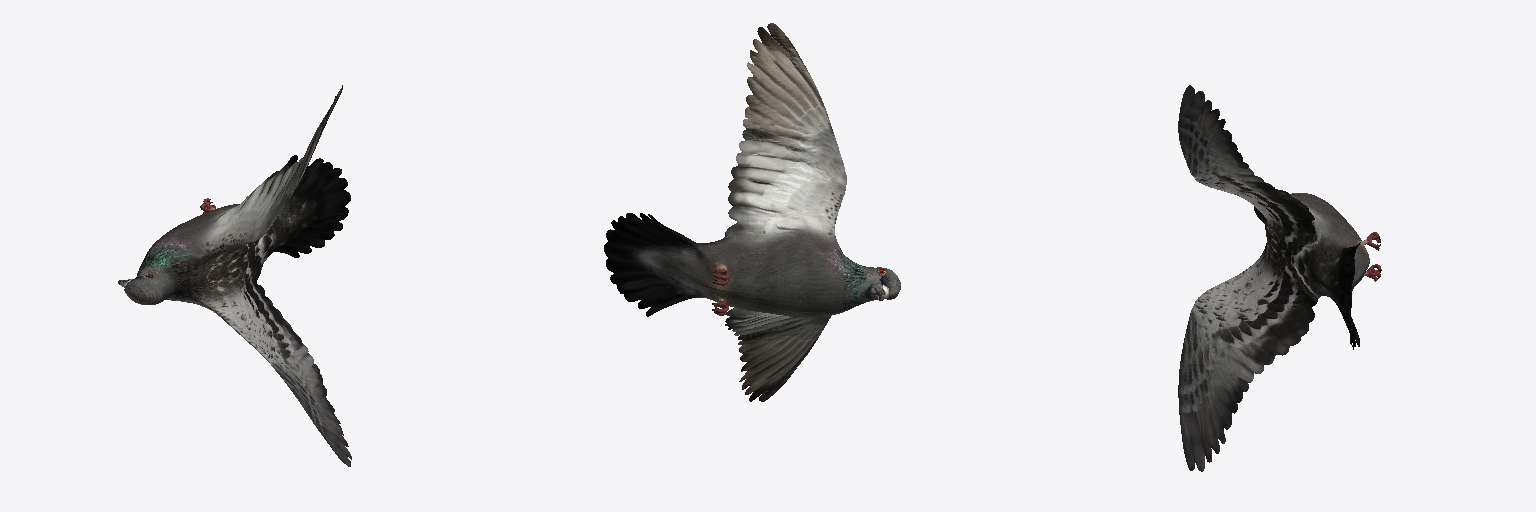
3 renders of one model, left to right at view 1: azimuth 30°, elevation 25°; view 2: azimuth 150°, elevation 25°; view 3: azimuth 270°, elevation 25°, orthographic.
Parts seen in each view (by area): view 1: bird; view 2: bird; view 3: bird.
Part boxes in pixels (x1,y1,x2,y2): bird: (118,85,351,466); bird: (604,23,900,401); bird: (1178,85,1381,471).
Size of the model in its own units: 246 by 345 by 167.
Materials: 1 (1 with a texture image).